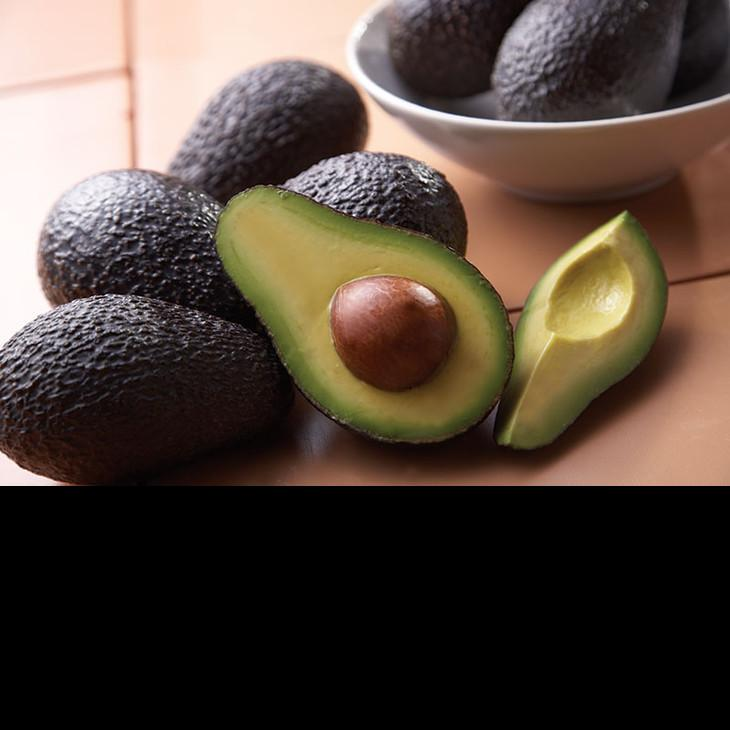ripe: (1, 293, 292, 485), (35, 167, 264, 323), (167, 58, 369, 204), (491, 1, 690, 122), (270, 151, 468, 261), (387, 2, 534, 99)
